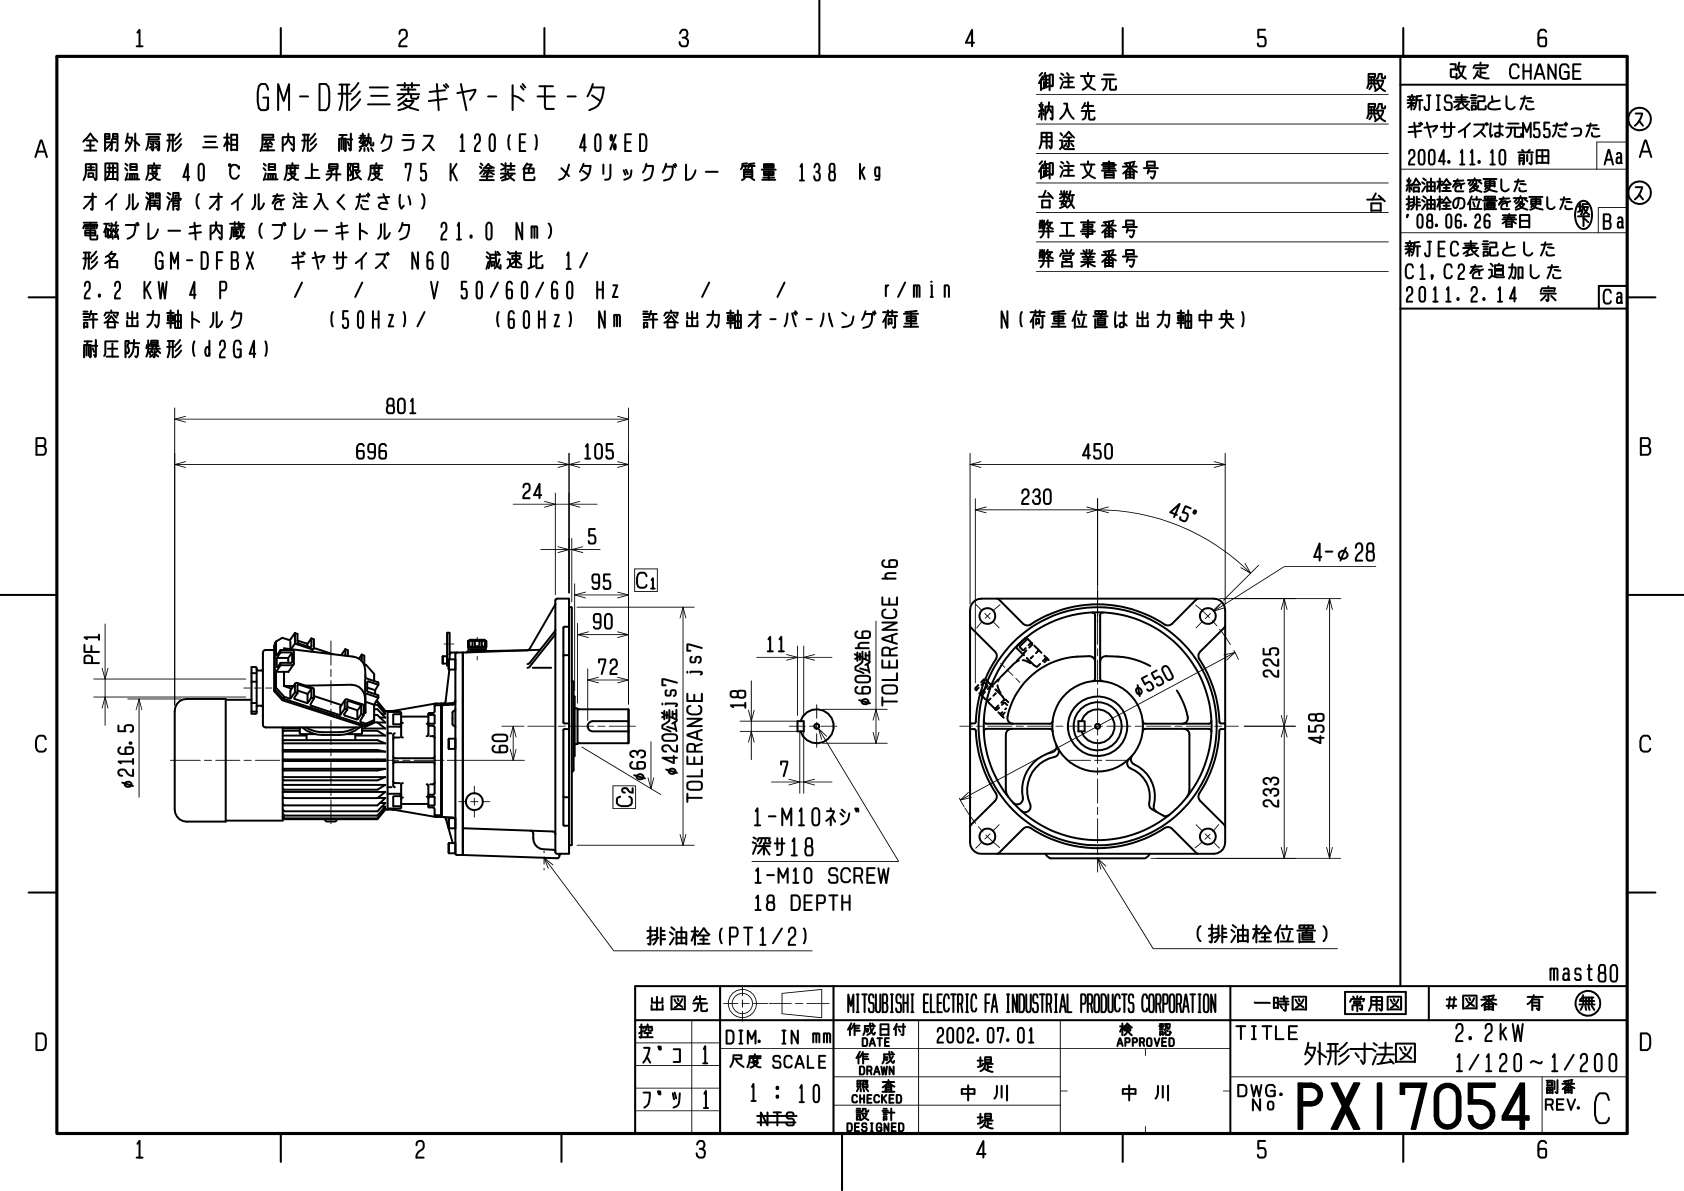GM_SP_屋内＿三相_フランジ: (73, 378, 1392, 955)
